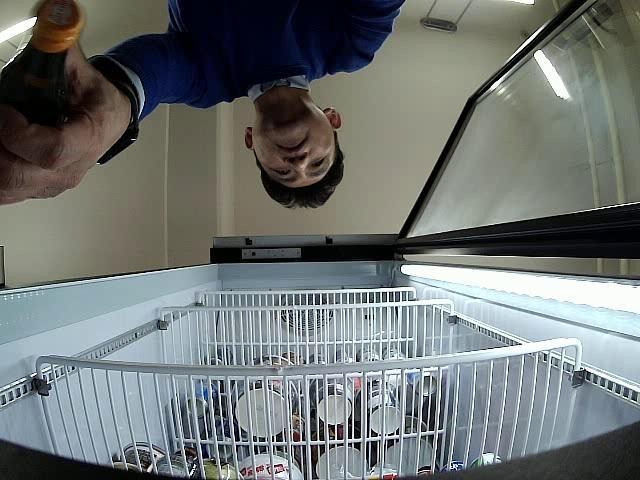17_vita500: (0, 0, 86, 129)
